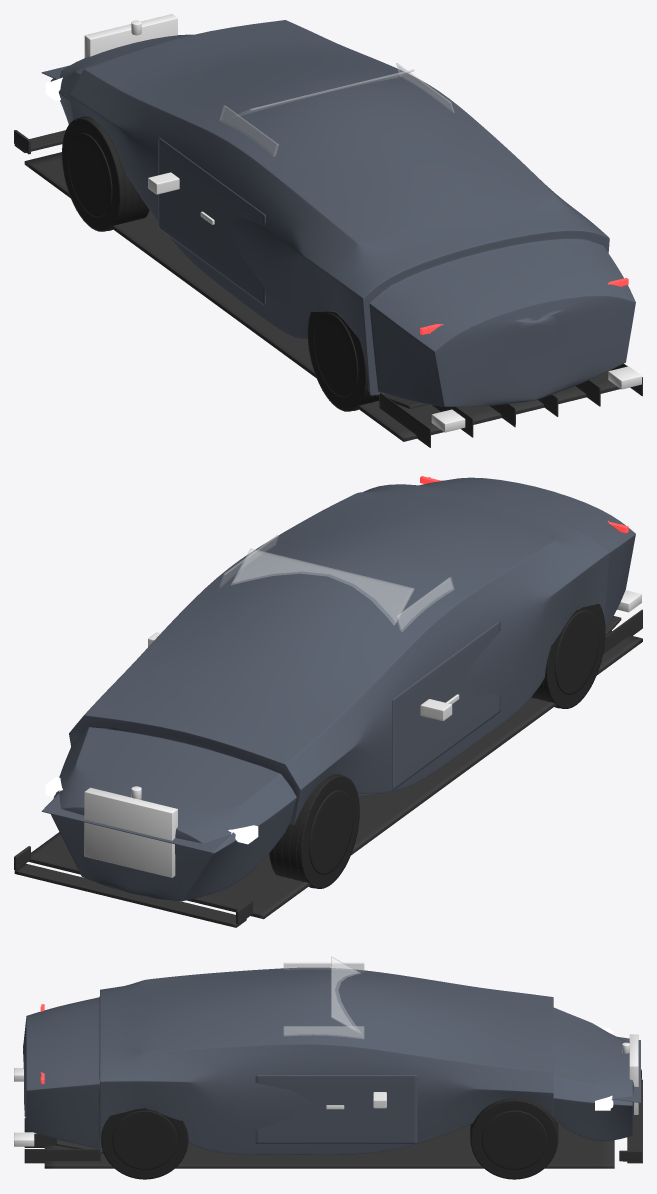
The model's file is vehicle.opt.glb.
The picture shows the model from 3 angles, top to bottom: view 1: azimuth 30°, elevation 25°; view 2: azimuth 150°, elevation 25°; view 3: azimuth 270°, elevation 25°; orthographic projection. The views are drawn at different scales.
Visible parts, largest first — view 1: BODY_MainShell, UNDERBODY_FlatFloor, BODY_Door_FL, WHEEL_FL_Tire, WHEEL_RL_Tire, GLASS_Greenhouse, JEWELRY_Ghost_PantheonGrille, JEWELRY_Ghost_DualExhaust, AERO_FrontSplitter, JEWELRY_Hardware; view 2: BODY_MainShell, UNDERBODY_FlatFloor, BODY_Door_FL, WHEEL_FL_Tire, JEWELRY_Ghost_PantheonGrille, GLASS_Greenhouse, WHEEL_RL_Tire, AERO_FrontSplitter, BODY_Hood, JEWELRY_Hardware, LIGHTING_Headlamps; view 3: BODY_MainShell, UNDERBODY_FlatFloor, BODY_Door_FR, WHEEL_FR_Tire, WHEEL_RR_Tire, GLASS_Greenhouse, AERO_FrontSplitter, JEWELRY_Ghost_PantheonGrille, JEWELRY_Ghost_DualExhaust, BODY_Hood.
Part boxes in pixels (<box>): BODY_MainShell: <box>50,20,635,406</box>; UNDERBODY_FlatFloor: <box>24,152,642,447</box>; BODY_Door_FL: <box>158,136,265,306</box>; WHEEL_FL_Tire: <box>61,116,149,231</box>; WHEEL_RL_Tire: <box>307,311,379,411</box>; GLASS_Greenhouse: <box>219,63,454,156</box>; JEWELRY_Ghost_PantheonGrille: <box>84,14,177,57</box>; JEWELRY_Ghost_DualExhaust: <box>431,366,641,432</box>; AERO_FrontSplitter: <box>14,130,65,154</box>; JEWELRY_Hardware: <box>148,172,214,224</box>; BODY_MainShell: <box>51,477,635,901</box>; UNDERBODY_FlatFloor: <box>28,609,642,919</box>; BODY_Door_FL: <box>392,620,500,789</box>; WHEEL_FL_Tire: <box>269,774,359,888</box>; JEWELRY_Ghost_PantheonGrille: <box>84,786,177,877</box>; GLASS_Greenhouse: <box>219,535,454,631</box>; WHEEL_RL_Tire: <box>531,604,605,708</box>; AERO_FrontSplitter: <box>14,846,252,927</box>; BODY_Hood: <box>41,793,229,853</box>; JEWELRY_Hardware: <box>148,632,459,721</box>; LIGHTING_Headlamps: <box>45,777,258,844</box>; BODY_MainShell: <box>23,967,634,1154</box>; UNDERBODY_FlatFloor: <box>24,1113,614,1168</box>; BODY_Door_FR: <box>255,1075,417,1143</box>; WHEEL_FR_Tire: <box>470,1098,558,1179</box>; WHEEL_RR_Tire: <box>101,1108,188,1179</box>; GLASS_Greenhouse: <box>283,956,364,1038</box>; AERO_FrontSplitter: <box>619,1069,642,1163</box>; JEWELRY_Ghost_PantheonGrille: <box>622,1034,638,1114</box>; JEWELRY_Ghost_DualExhaust: <box>14,1068,34,1146</box>; BODY_Hood: <box>614,1036,640,1102</box>.
Size of what is drawn, in the model's own units: 2.29 by 1.47 by 5.6.
